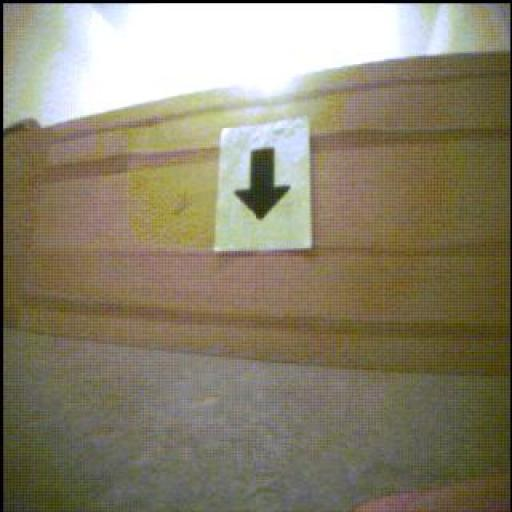Arrow: (236, 148, 291, 220)
